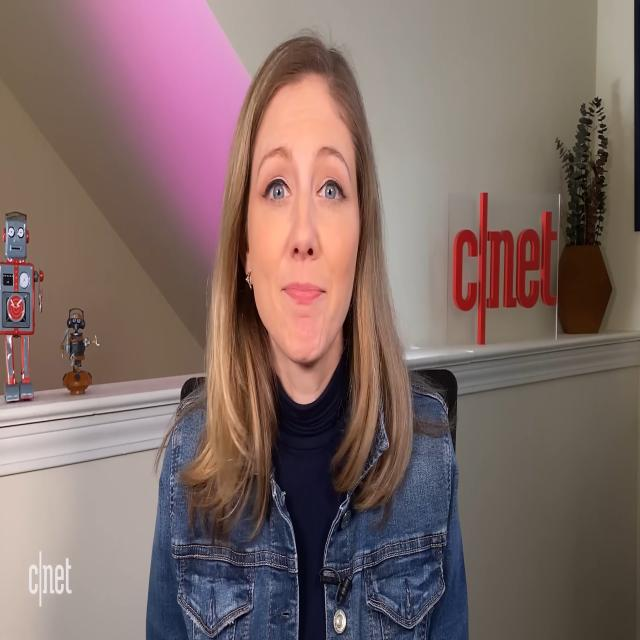dress: (140, 320, 473, 640)
